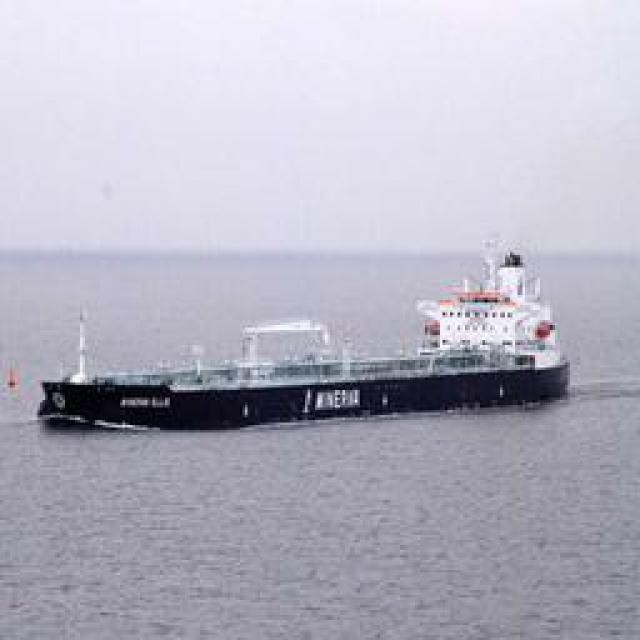Ship: (43, 245, 571, 435)
